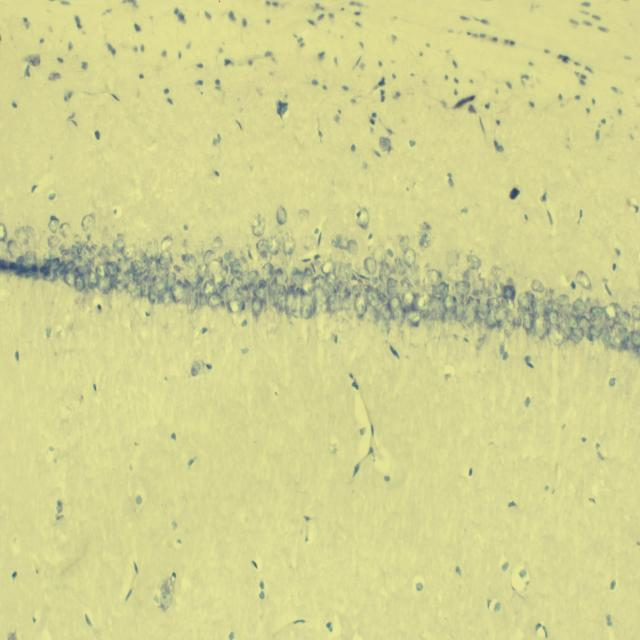neuron: (388, 296, 406, 326), (464, 296, 481, 327), (184, 277, 198, 314), (403, 247, 420, 274), (413, 290, 432, 313), (214, 264, 229, 292), (532, 314, 548, 340), (547, 324, 565, 346), (253, 279, 268, 305), (418, 221, 432, 248), (285, 284, 296, 318), (300, 272, 316, 295), (314, 287, 328, 313), (428, 300, 446, 320), (531, 293, 546, 317), (379, 260, 392, 287), (227, 296, 246, 314), (558, 310, 570, 338), (251, 214, 266, 236), (354, 293, 367, 318), (326, 294, 344, 312), (576, 270, 592, 290), (276, 285, 287, 314), (364, 286, 379, 307), (372, 243, 387, 264), (172, 280, 185, 304), (6, 238, 20, 260), (273, 268, 288, 288), (15, 225, 29, 246), (494, 303, 508, 324), (406, 309, 422, 327), (462, 268, 480, 284), (146, 238, 159, 260), (250, 297, 263, 319), (356, 208, 369, 230), (236, 284, 251, 303), (208, 259, 222, 279), (290, 271, 304, 291), (344, 290, 354, 318), (402, 290, 416, 310), (518, 292, 532, 312), (121, 243, 137, 260), (442, 295, 458, 312), (500, 297, 516, 314), (268, 234, 280, 256), (82, 212, 95, 232), (117, 258, 133, 274), (207, 293, 223, 309), (242, 270, 258, 286), (426, 268, 442, 284), (455, 280, 471, 296), (332, 235, 349, 250), (276, 203, 287, 226), (87, 269, 99, 290), (78, 257, 92, 275), (152, 274, 166, 292), (284, 235, 296, 256), (570, 326, 584, 344), (577, 316, 591, 334), (604, 304, 618, 322), (446, 249, 459, 268), (100, 274, 112, 294), (262, 262, 274, 282), (321, 258, 336, 274), (394, 256, 406, 276), (504, 317, 516, 337), (523, 312, 533, 336), (159, 250, 173, 267), (63, 270, 76, 288), (220, 284, 233, 302), (344, 263, 357, 281), (573, 298, 586, 316), (148, 284, 159, 305), (99, 245, 111, 264), (386, 277, 398, 296), (478, 301, 490, 320), (258, 251, 273, 266), (42, 269, 58, 283), (112, 237, 126, 253), (256, 238, 270, 254), (270, 276, 278, 304), (467, 254, 481, 270), (502, 284, 516, 300), (203, 249, 216, 266), (74, 274, 86, 292), (106, 260, 118, 278), (228, 258, 240, 276), (364, 257, 376, 275), (473, 278, 485, 296), (182, 253, 196, 268), (589, 306, 603, 321), (616, 311, 630, 326), (400, 234, 411, 253), (130, 260, 143, 276), (161, 235, 174, 251), (164, 271, 177, 287), (617, 328, 630, 344), (380, 304, 392, 321), (454, 303, 464, 323), (162, 288, 173, 306), (203, 280, 214, 298), (238, 256, 249, 274), (493, 280, 504, 298), (372, 301, 381, 323), (25, 250, 39, 264), (58, 223, 72, 237), (531, 279, 545, 293), (154, 266, 170, 278), (346, 240, 358, 256), (510, 310, 522, 326), (140, 278, 150, 297), (487, 309, 497, 328), (48, 216, 59, 233), (139, 248, 150, 265), (300, 305, 313, 319), (124, 270, 136, 285), (314, 274, 326, 289), (612, 333, 622, 351), (602, 328, 611, 348), (16, 254, 27, 270), (197, 262, 208, 278), (548, 309, 559, 325), (587, 324, 597, 341), (336, 281, 349, 294), (0, 259, 14, 271), (127, 280, 139, 294), (195, 293, 207, 307), (212, 236, 224, 250), (231, 276, 243, 290), (300, 294, 314, 306), (400, 277, 412, 291), (560, 303, 574, 315), (115, 276, 126, 291), (568, 315, 579, 330), (0, 222, 8, 242), (96, 264, 106, 280), (542, 299, 552, 315), (547, 300, 563, 310), (48, 235, 60, 248), (44, 248, 57, 260), (38, 264, 51, 276), (16, 262, 29, 274), (298, 209, 310, 222), (434, 281, 446, 294), (496, 295, 508, 308), (631, 330, 640, 347), (149, 259, 160, 272), (492, 264, 503, 277), (556, 294, 569, 305), (631, 304, 640, 319), (64, 261, 76, 272), (488, 298, 499, 310), (377, 291, 387, 304), (447, 310, 458, 321), (516, 306, 527, 317), (58, 261, 66, 276), (88, 244, 98, 256), (419, 309, 431, 319), (77, 241, 86, 254), (476, 336, 485, 349), (338, 264, 346, 278), (49, 258, 60, 268), (326, 272, 337, 282), (32, 264, 38, 281), (10, 261, 20, 271), (72, 254, 82, 264), (73, 234, 82, 244), (304, 267, 312, 278), (485, 286, 493, 297), (351, 284, 357, 298), (224, 252, 234, 260), (61, 249, 73, 255), (174, 264, 182, 273), (196, 275, 203, 285), (71, 245, 80, 252), (292, 266, 298, 276), (372, 277, 378, 285)
